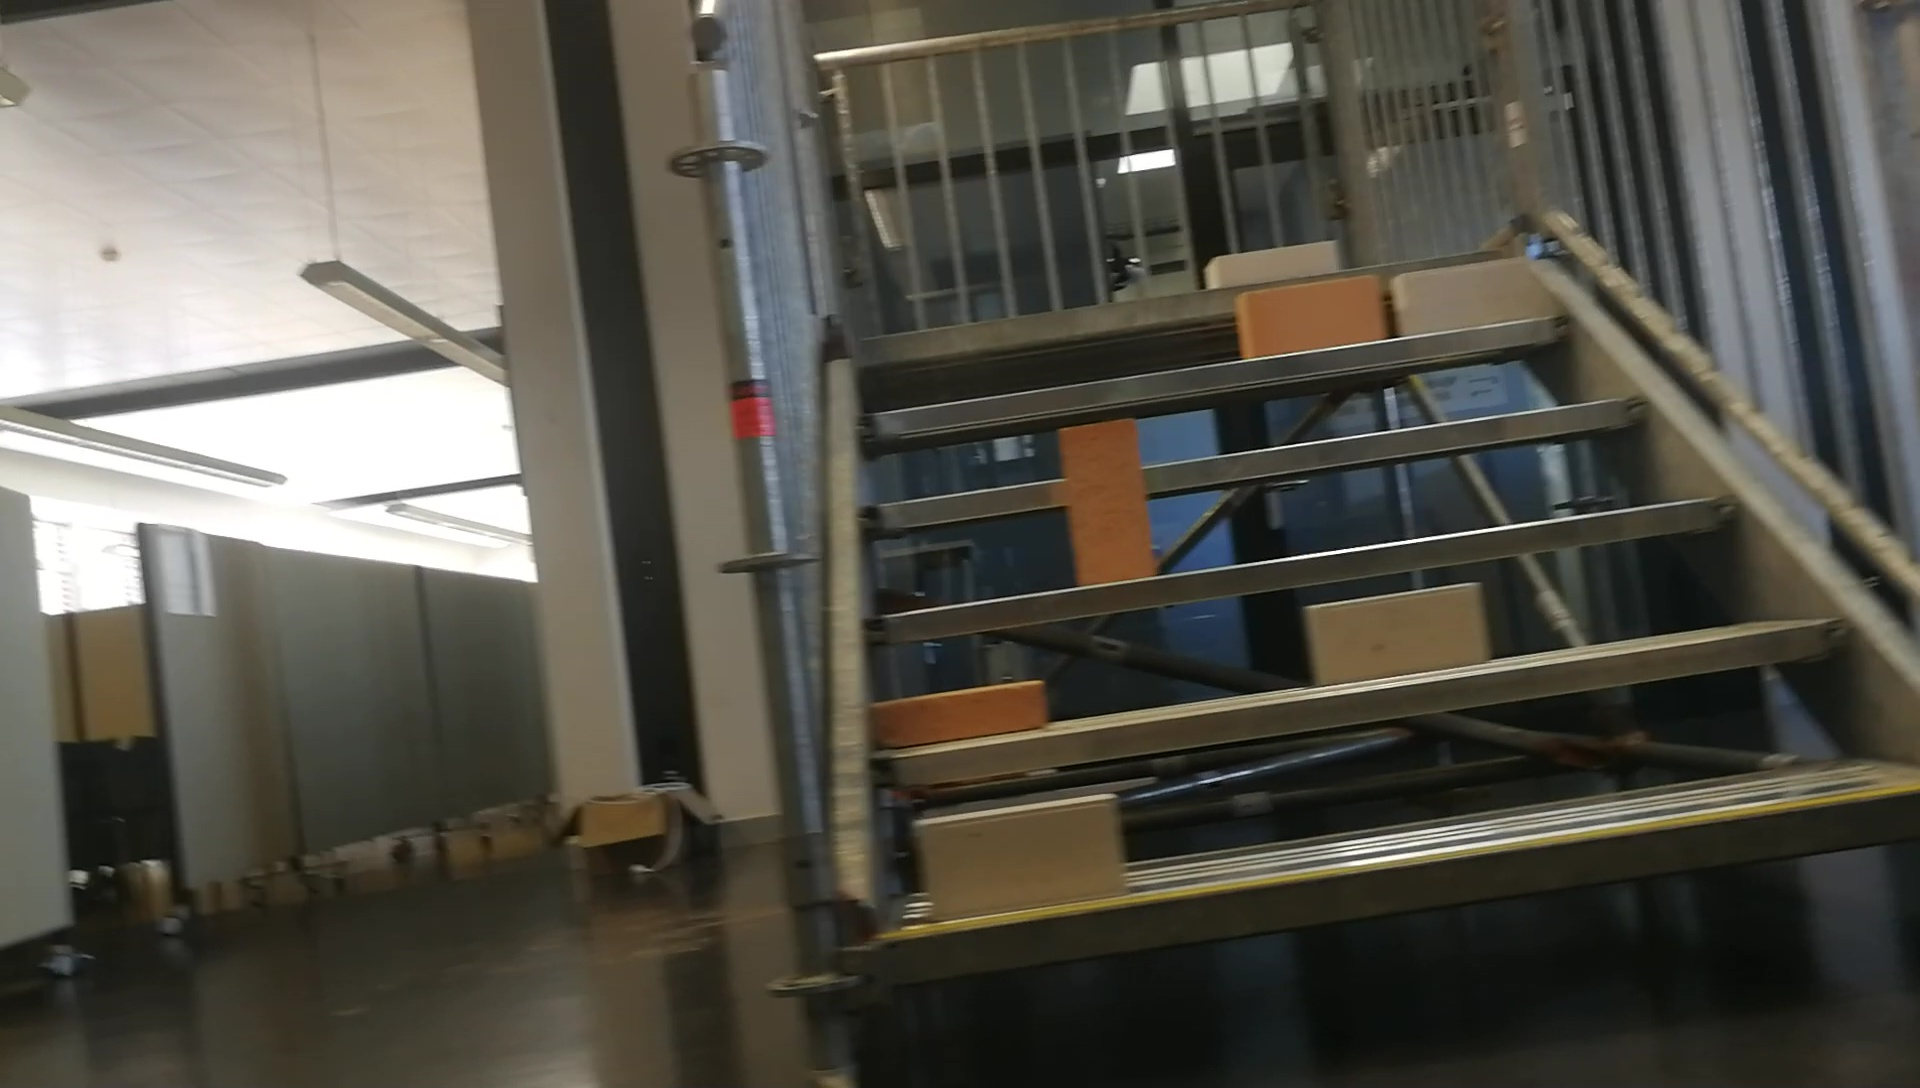brick: (916, 790, 1120, 928), (1308, 583, 1487, 680), (1062, 419, 1153, 582), (1240, 276, 1378, 357), (872, 683, 1039, 750), (1393, 257, 1527, 334), (1205, 243, 1336, 285)
edge: (885, 789, 1917, 988), (873, 620, 1847, 786), (868, 489, 1735, 648), (865, 396, 1643, 530), (862, 317, 1568, 438), (855, 249, 1520, 365)
steps: (824, 231, 1917, 1021)
